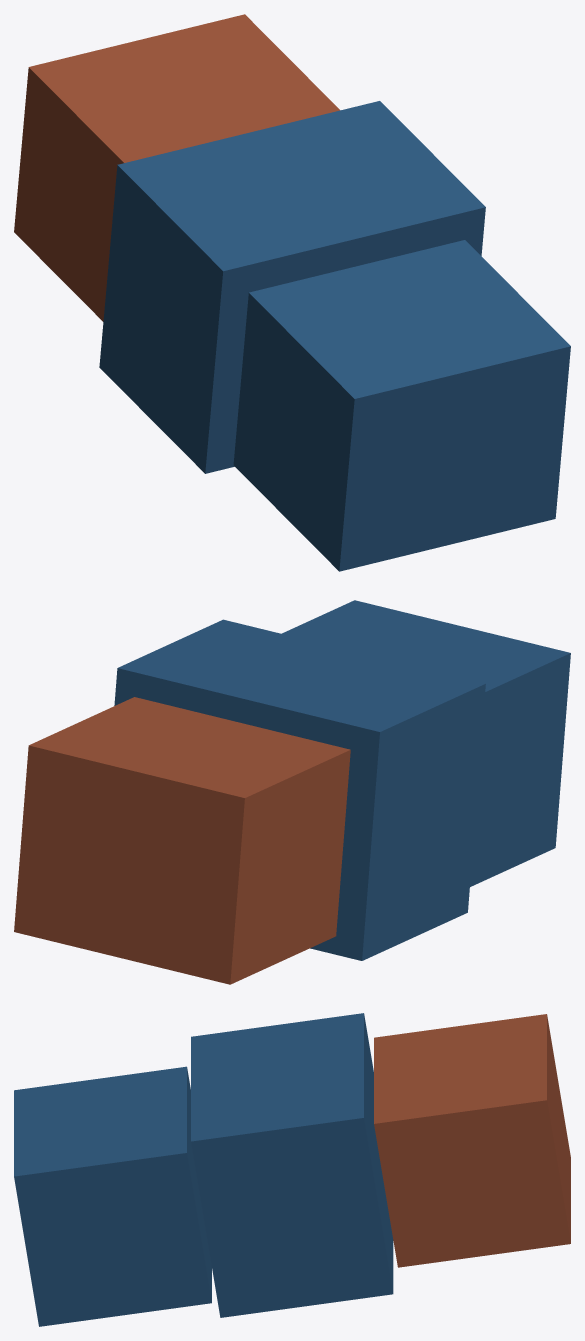
File: rm2_abdomen.obj
The picture shows the model from 3 angles, top to bottom: view 1: azimuth 30°, elevation 25°; view 2: azimuth 150°, elevation 25°; view 3: azimuth 270°, elevation 25°; orthographic projection. The views are drawn at different scales.
Parts seen in each view (by area): view 1: rm2_abdomen; view 2: rm2_abdomen; view 3: rm2_abdomen.
Boxes of the visible parts, left/top/right/bottom form: rm2_abdomen: left=14, top=14, right=570, bottom=571; rm2_abdomen: left=14, top=600, right=570, bottom=984; rm2_abdomen: left=14, top=1013, right=570, bottom=1326.
Bounding box in the file's own units: 0.34 × 0.3429 × 0.7638.
